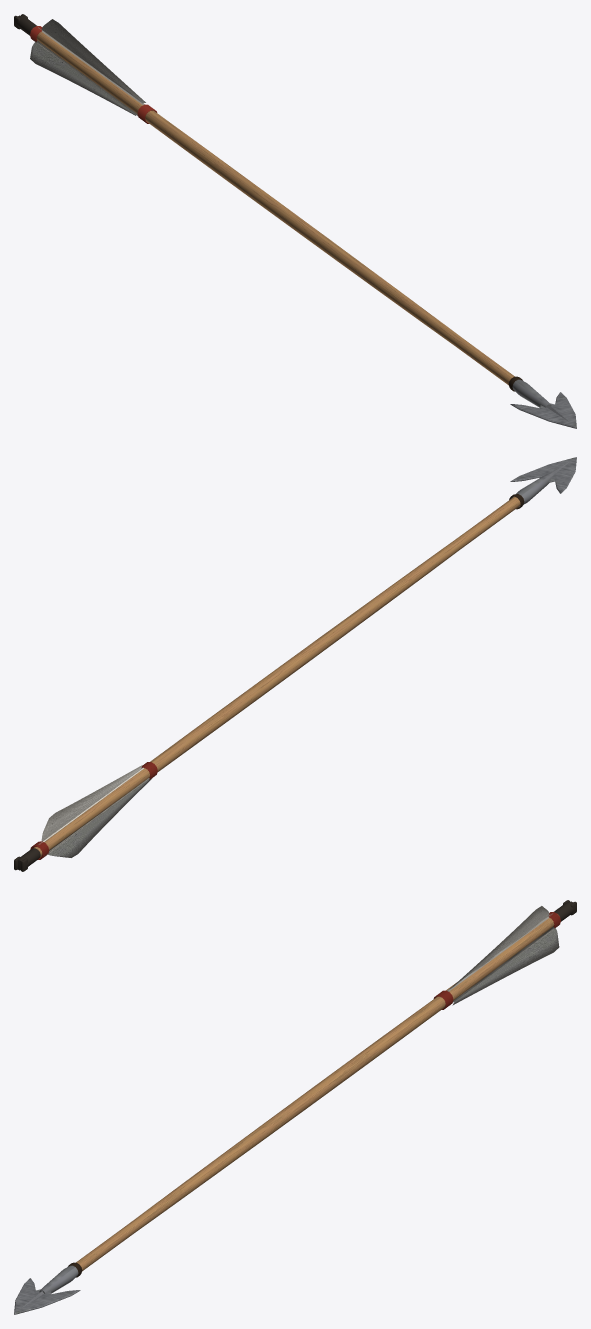
Rendered from arrow.glb.
The picture shows the model from 3 angles, top to bottom: view 1: azimuth 30°, elevation 25°; view 2: azimuth 150°, elevation 25°; view 3: azimuth 330°, elevation 25°; orthographic projection.
Visible parts, largest first — view 1: arrow; view 2: arrow; view 3: arrow.
Part boxes in pixels (<box>): arrow: <box>14,14,576,428</box>; arrow: <box>14,457,576,871</box>; arrow: <box>14,900,576,1314</box>.
Bounding box in the file's own units: 0.039 × 0.0288 × 0.753.
Materials: 7 (5 with a texture image).
